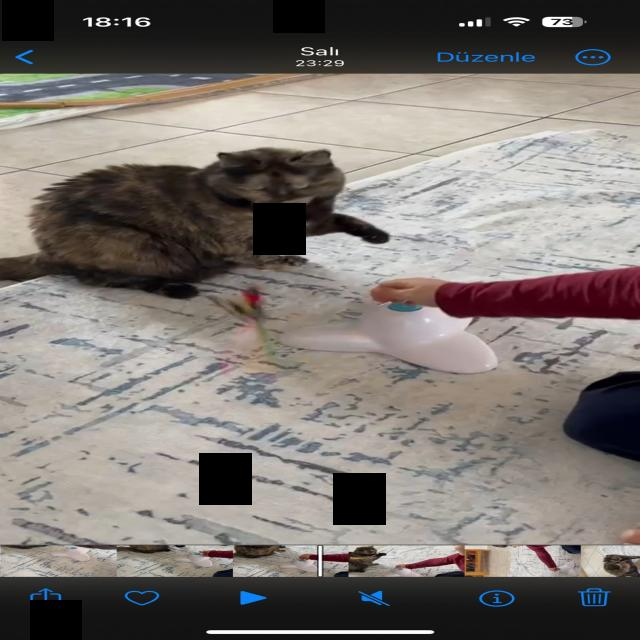authorized: (1, 146, 389, 300)
